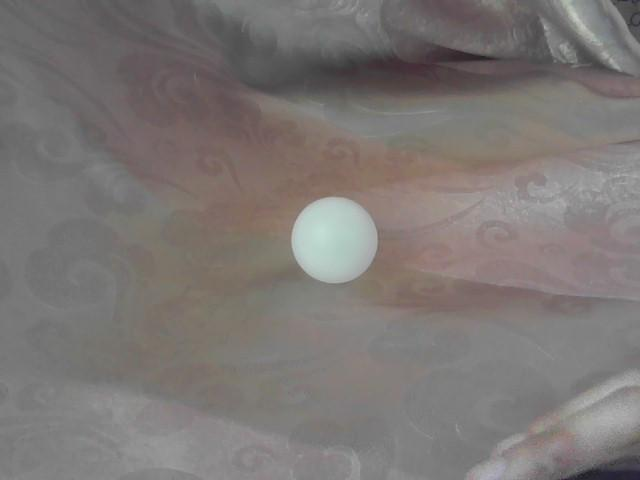ball: (291, 197, 378, 283)
